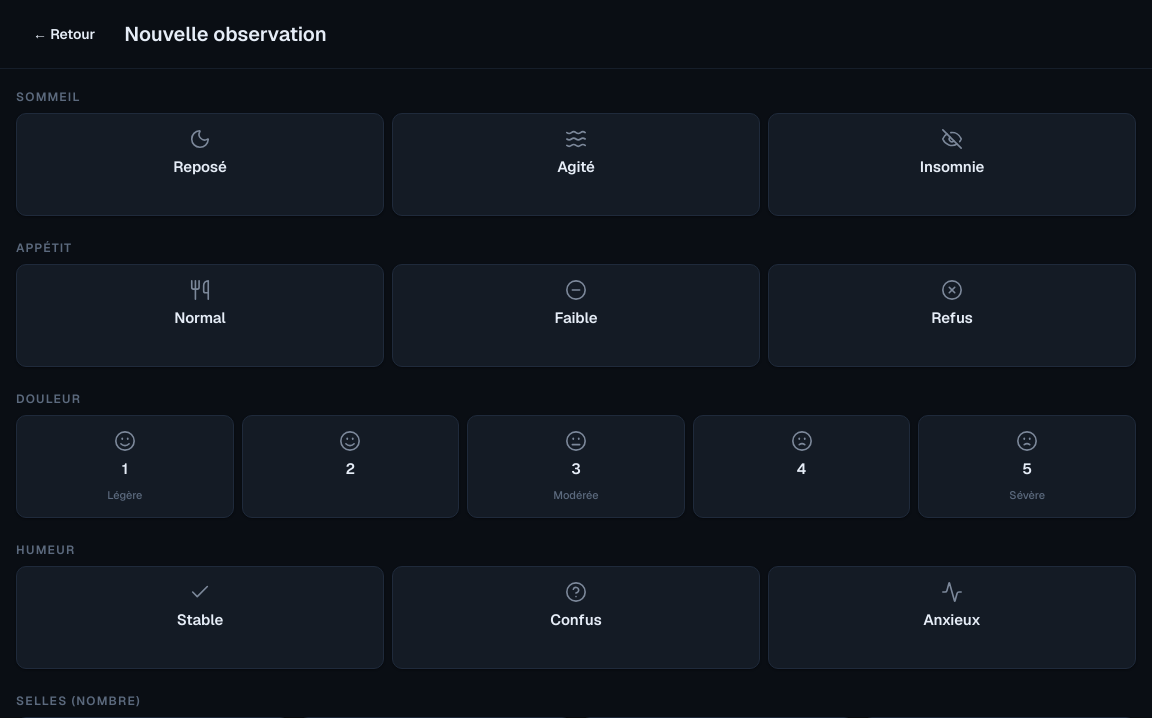
Test: PatientDetailPage › deselects a value when the same button is clicked again
Click the radio button labelled "Reposé". click: (200, 164)
box: [16,113,384,216]
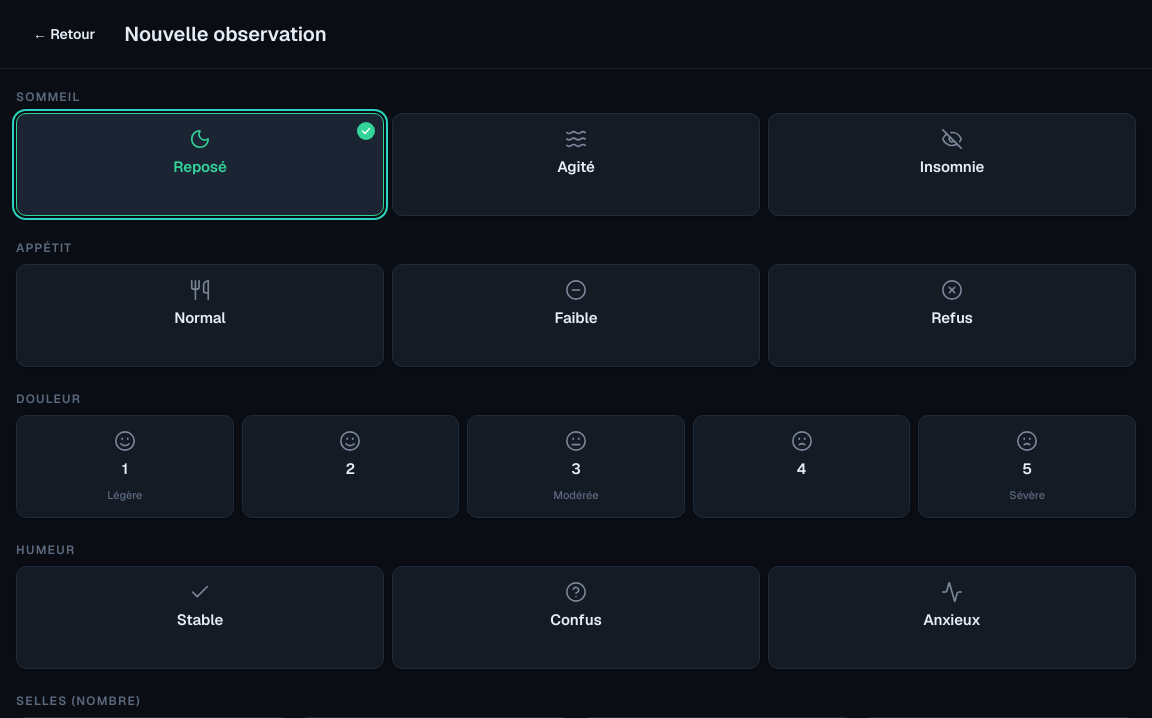
Click the radio button labelled "Reposé". click: (200, 164)
box: [16,113,384,216]
(page scrolled)
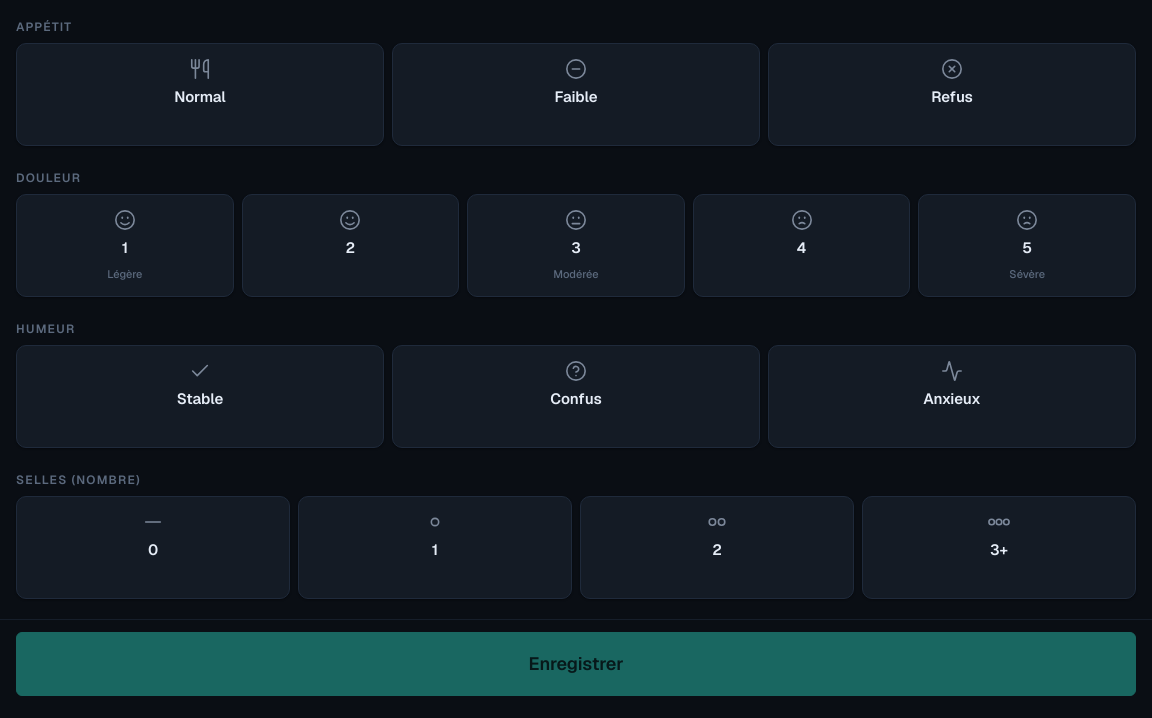
Check: the button "Enregistrer" is disabled, box [16,632,1136,696]
